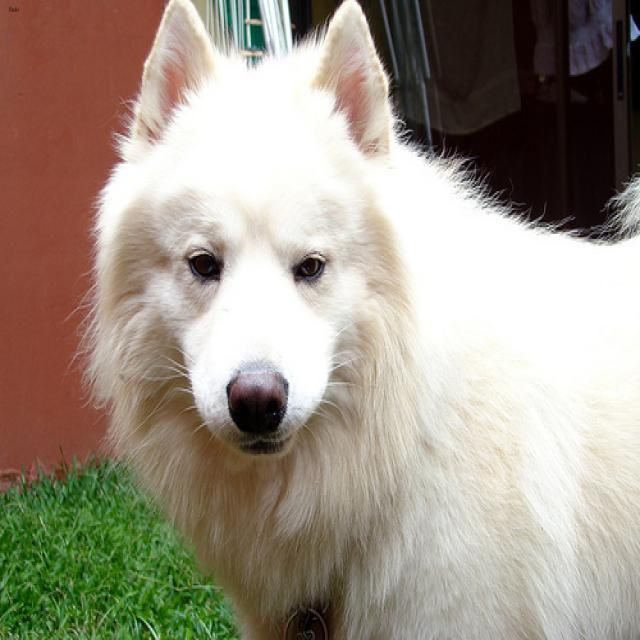dog-samoyed: (82, 2, 637, 637)
